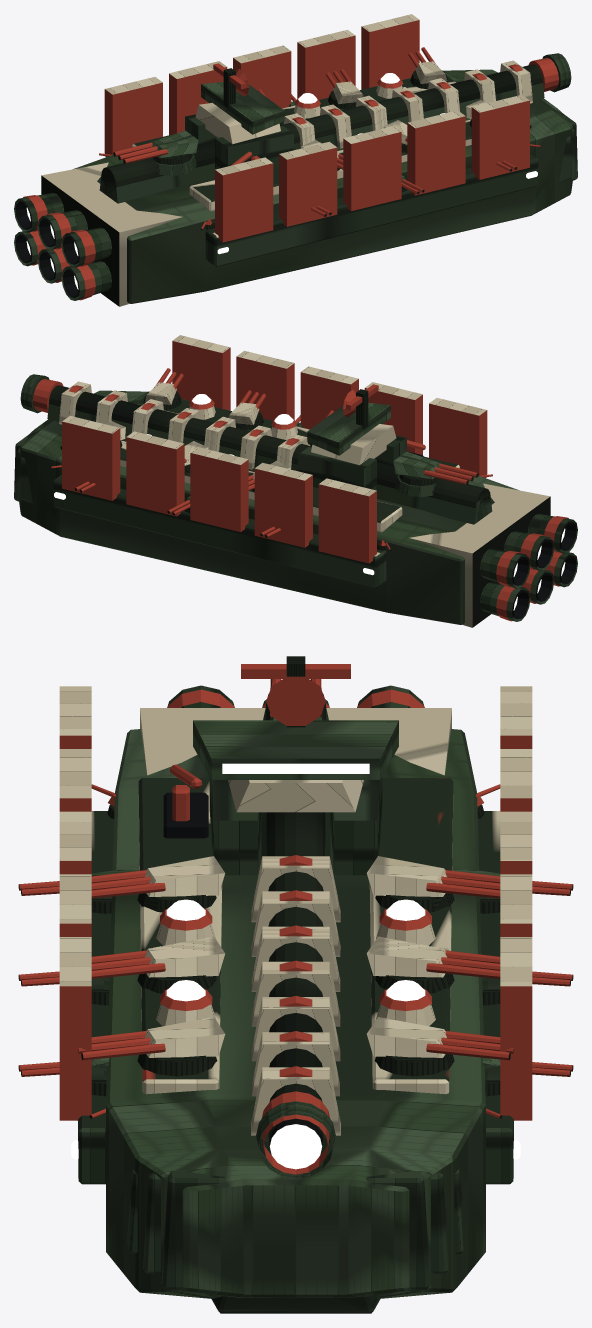
The model's file is battleship.glb.
3 views of the same model, one above another, from view 1: azimuth 30°, elevation 25°; view 2: azimuth 150°, elevation 25°; view 3: azimuth 270°, elevation 25° (orthographic). The views are drawn at different scales.
Parts seen in each view (by area): view 1: hull_body, weapon_mounts, engine_block, sensor_tower, shield_domes; view 2: hull_body, weapon_mounts, engine_block, sensor_tower, shield_domes; view 3: hull_body, weapon_mounts, sensor_tower, engine_block, shield_domes.
Boxes of the visible parts, box(x1,y1,x2,y2) form: hull_body: box(73, 14, 577, 303); weapon_mounts: box(99, 47, 571, 230); engine_block: box(14, 162, 182, 306); sensor_tower: box(185, 63, 293, 169); shield_domes: box(294, 73, 444, 134); hull_body: box(14, 335, 518, 624); weapon_mounts: box(20, 368, 492, 551); engine_block: box(409, 483, 577, 627); sensor_tower: box(298, 384, 406, 490); shield_domes: box(147, 394, 297, 455); hull_body: box(59, 686, 532, 1313); weapon_mounts: box(18, 679, 573, 1178); sensor_tower: box(193, 656, 398, 875); engine_block: box(140, 685, 451, 775); shield_domes: box(156, 899, 435, 1026).
Bounding box in the file's own units: 60 × 19.7 × 27.98.
Materials: 1 (1 with a texture image).
